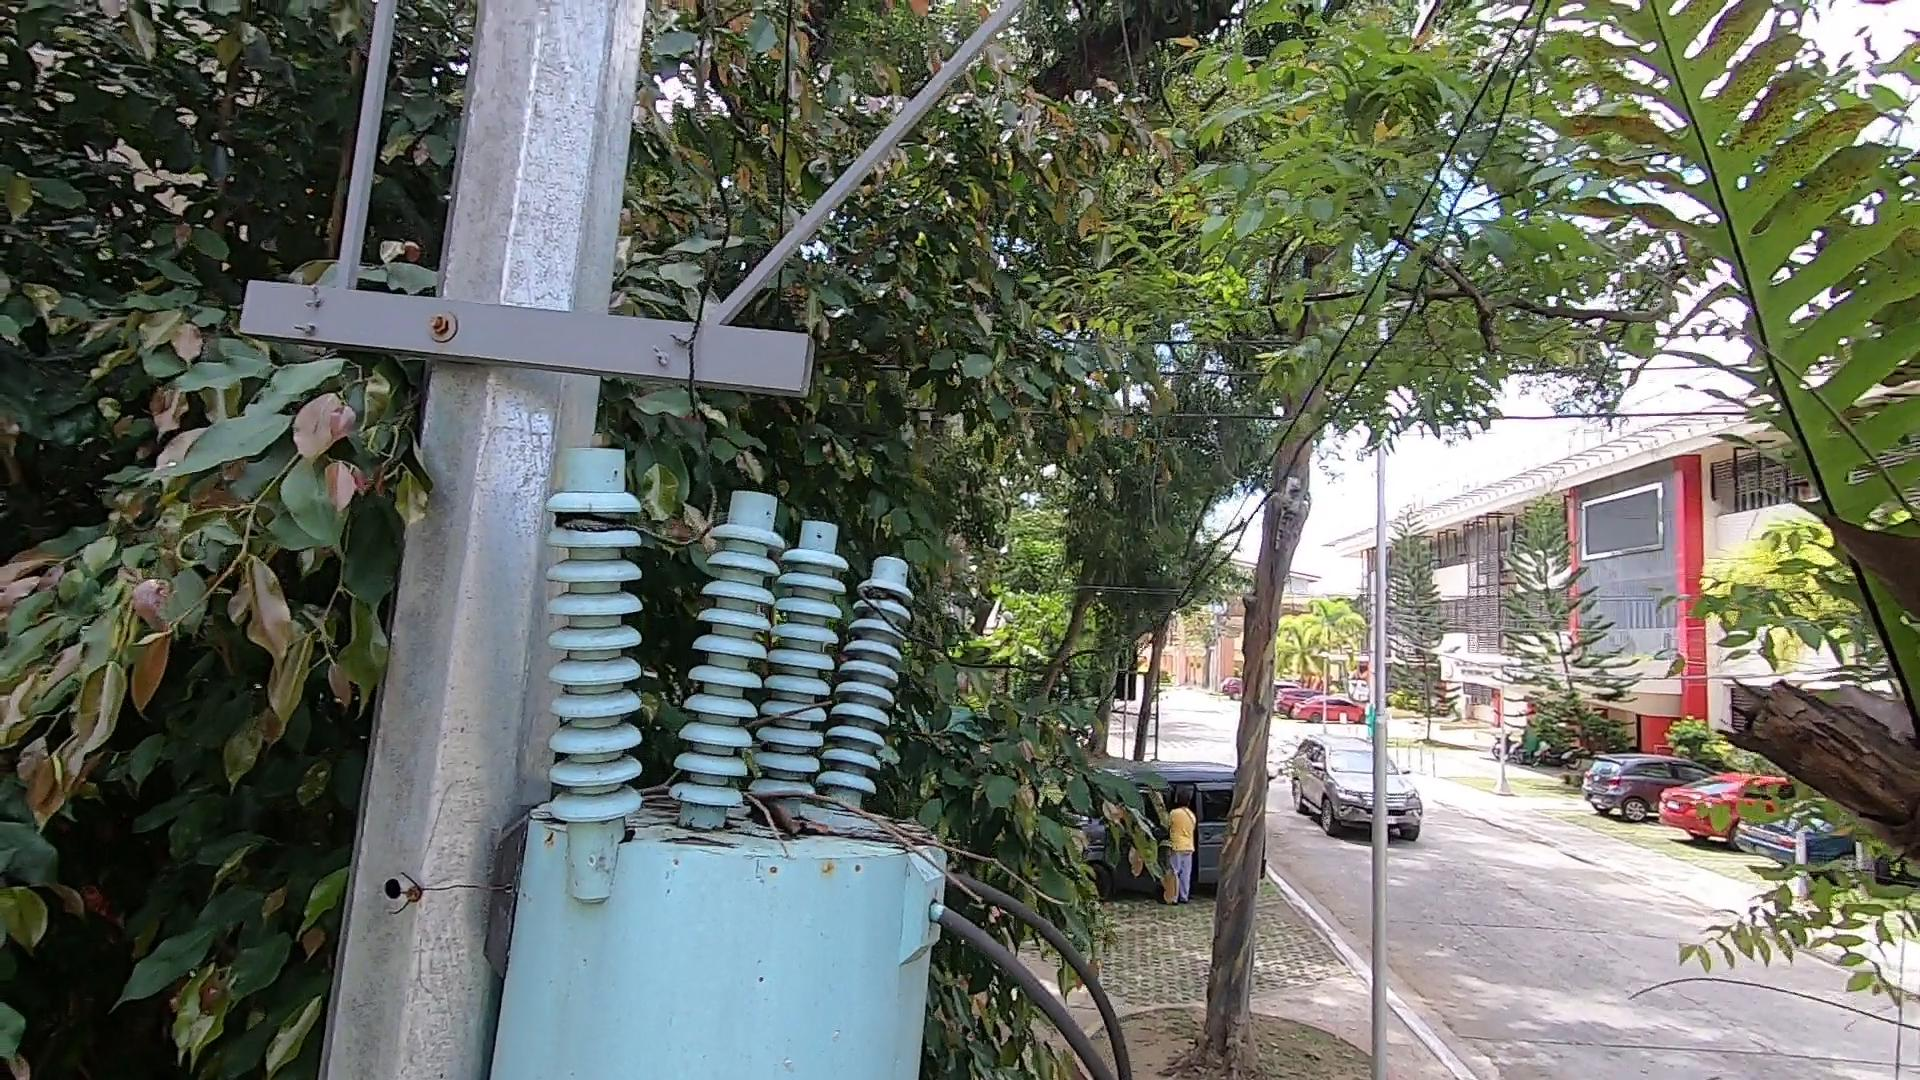leaf: (745, 785, 827, 851)
tree branch: (597, 746, 1076, 939)
